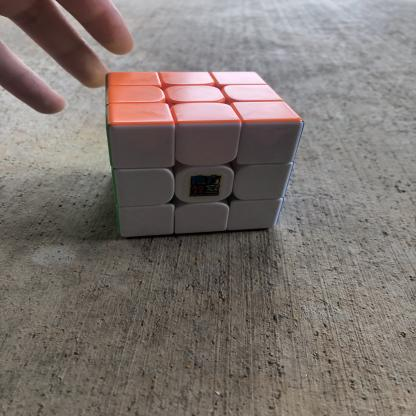SolvedCube: (88, 58, 308, 246)
